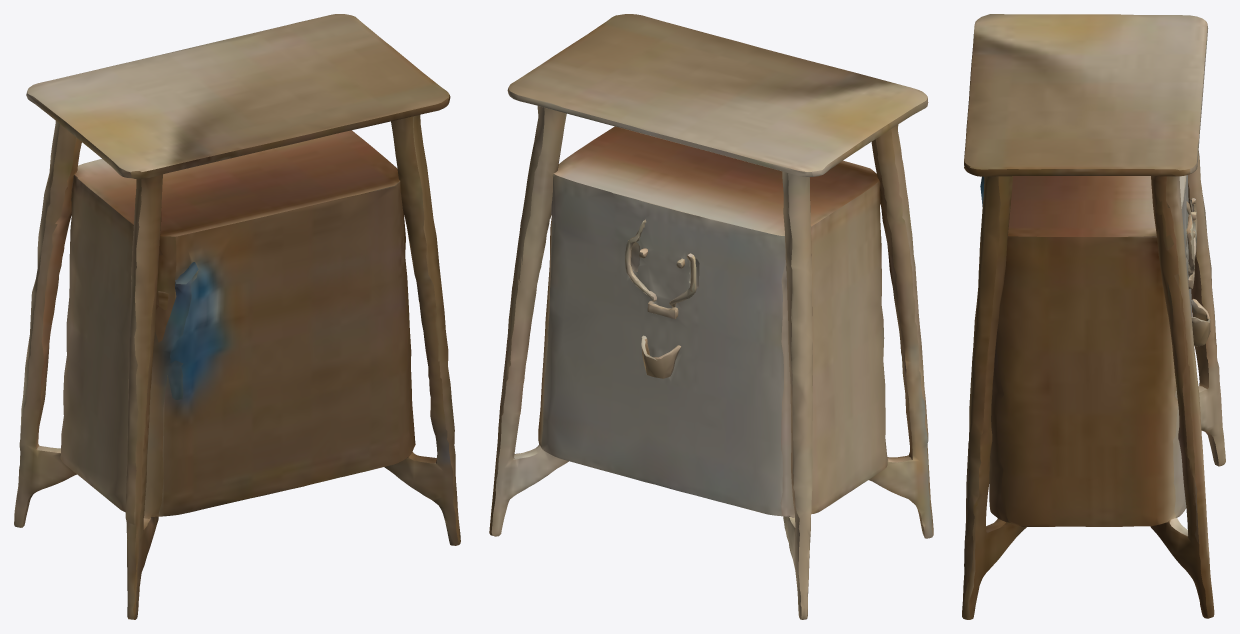
3 views of the same model, side by side, from view 1: azimuth 30°, elevation 25°; view 2: azimuth 150°, elevation 25°; view 3: azimuth 270°, elevation 25° (orthographic).
Parts seen in each view (by area): view 1: world; view 2: world; view 3: world.
Boxes of the visible parts, x1,y1,x2,y2 form: world: (14, 14, 460, 619); world: (489, 14, 933, 619); world: (962, 14, 1225, 619).
Size of the model in its own units: 0.1665 by 0.2164 by 0.1137.
Materials: 1 (1 with a texture image).
